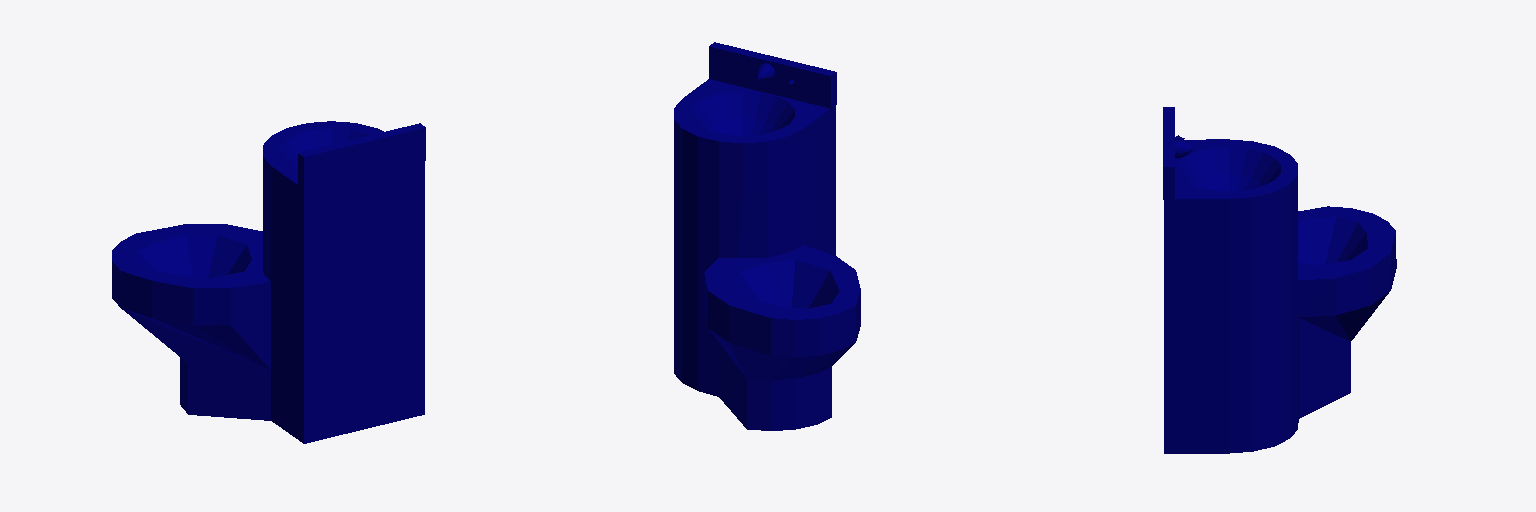
Rendered from SinkToilet.obj.
The picture shows the model from 3 angles: view 1: azimuth 30°, elevation 25°; view 2: azimuth 150°, elevation 25°; view 3: azimuth 270°, elevation 25°; orthographic projection.
Visible parts, largest first — view 1: SinkToilet; view 2: SinkToilet; view 3: SinkToilet.
Boxes of the visible parts, <box> form: SinkToilet: <box>112,121,425,443</box>; SinkToilet: <box>674,42,860,430</box>; SinkToilet: <box>1163,107,1396,453</box>.
Size of the model in its own units: 91.79 by 113 by 83.03.